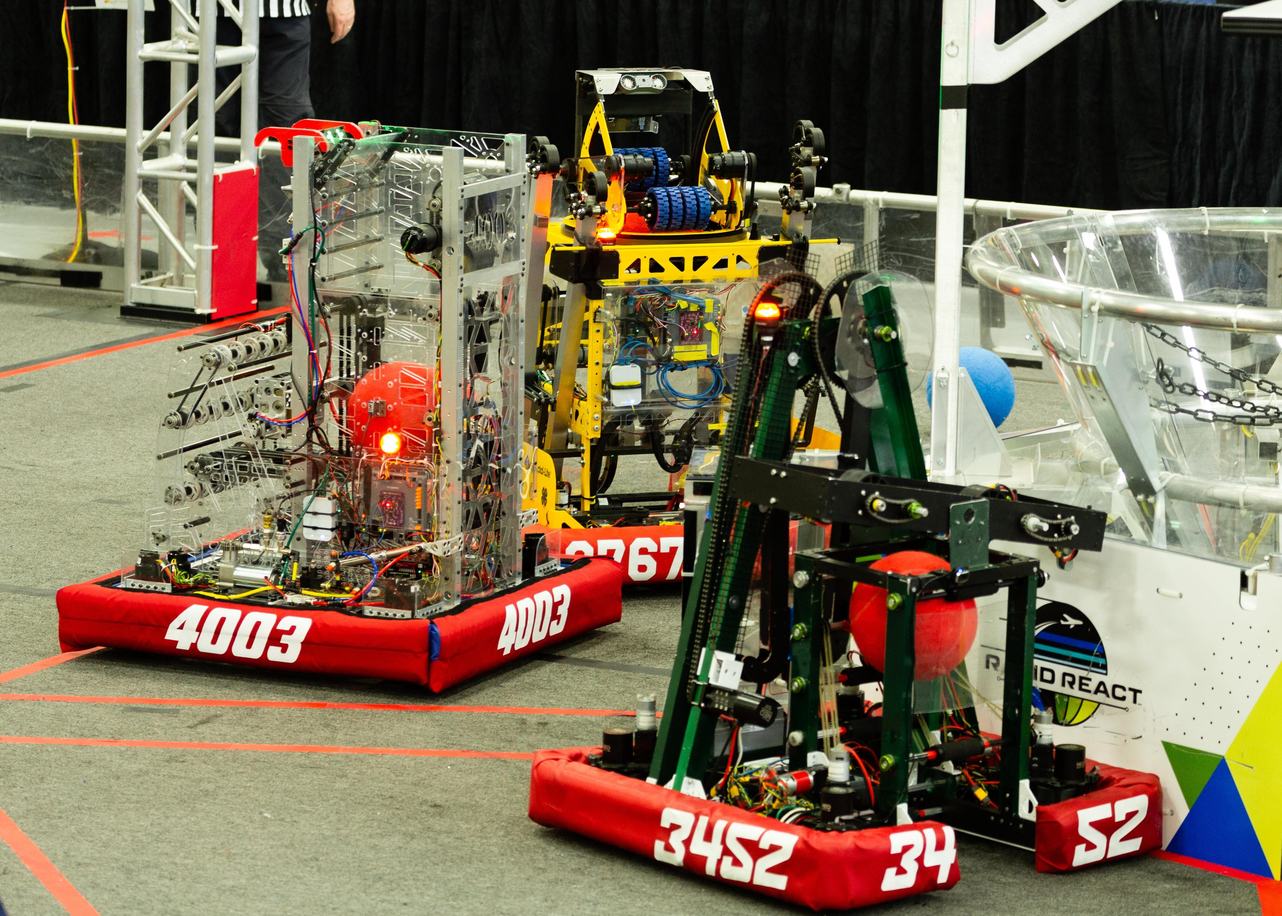robot: (524, 244, 1170, 916), (47, 116, 634, 700), (441, 54, 848, 594)
